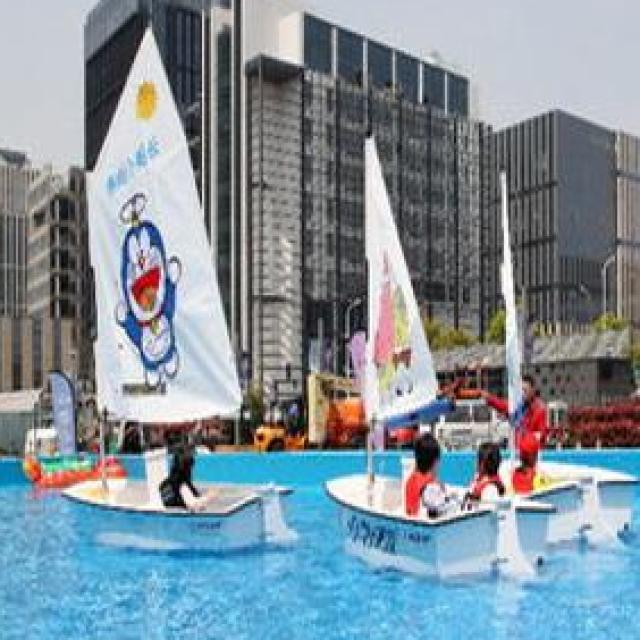sailboat: (69, 32, 289, 544), (325, 134, 494, 554)
